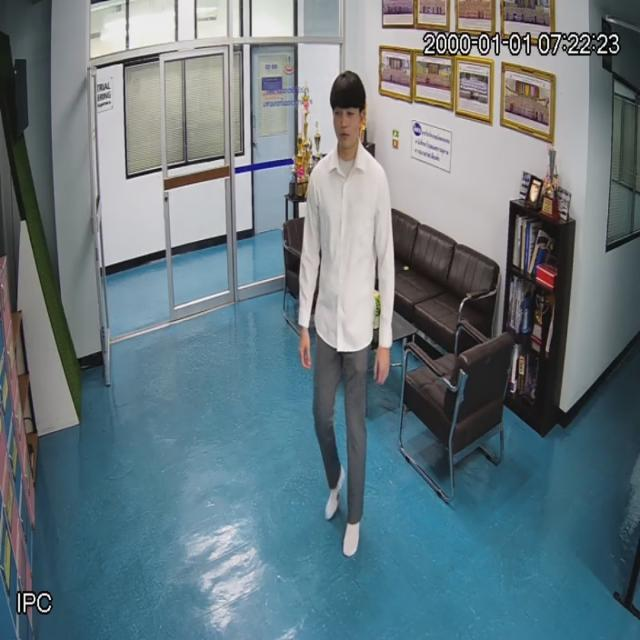normal: (303, 62, 396, 574)
